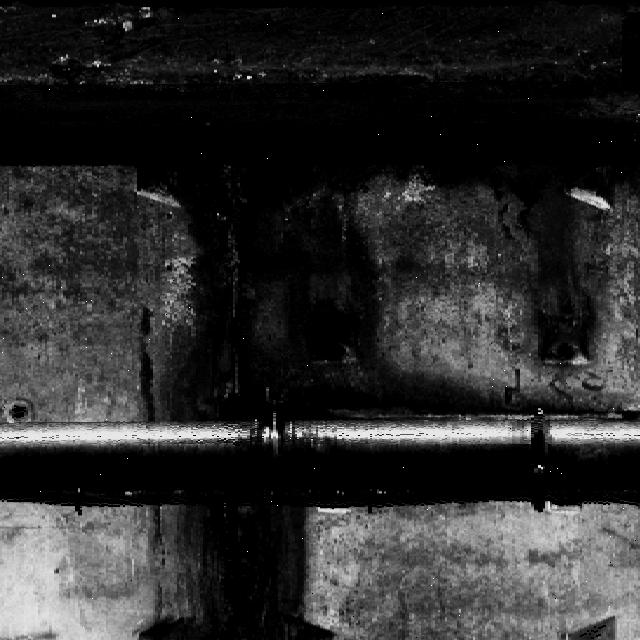leakage: (107, 164, 486, 423), (133, 502, 341, 639), (498, 162, 625, 362)
